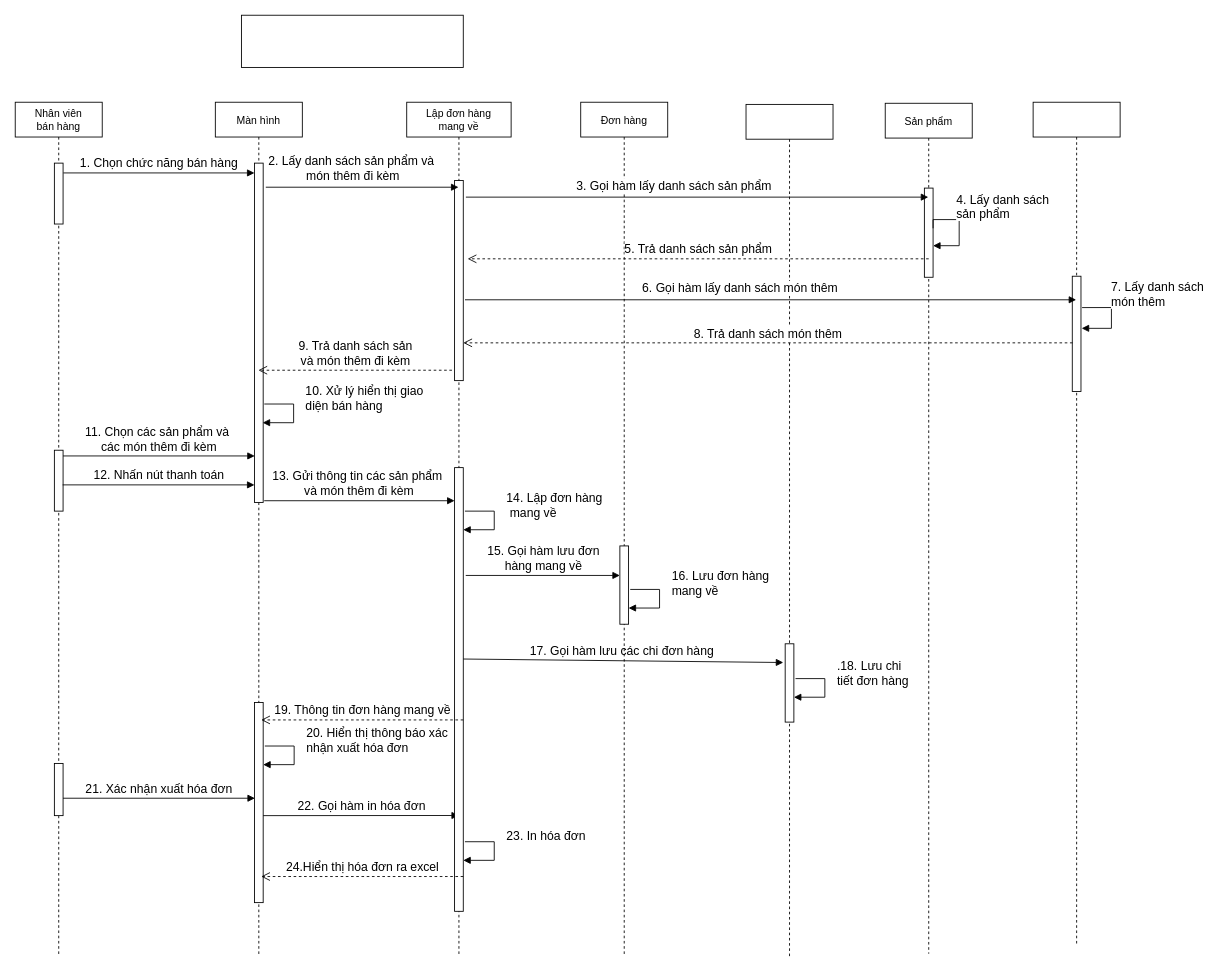
This 1220x973 diagram has some shape labels left out. Each missing label, with the box of its shape:
Chi tiết đơn hàng: (745, 104, 833, 957)
Món thêm đi kèm: (1032, 101, 1120, 946)
Xử lý đơn hàng mang về: (241, 14, 463, 67)
